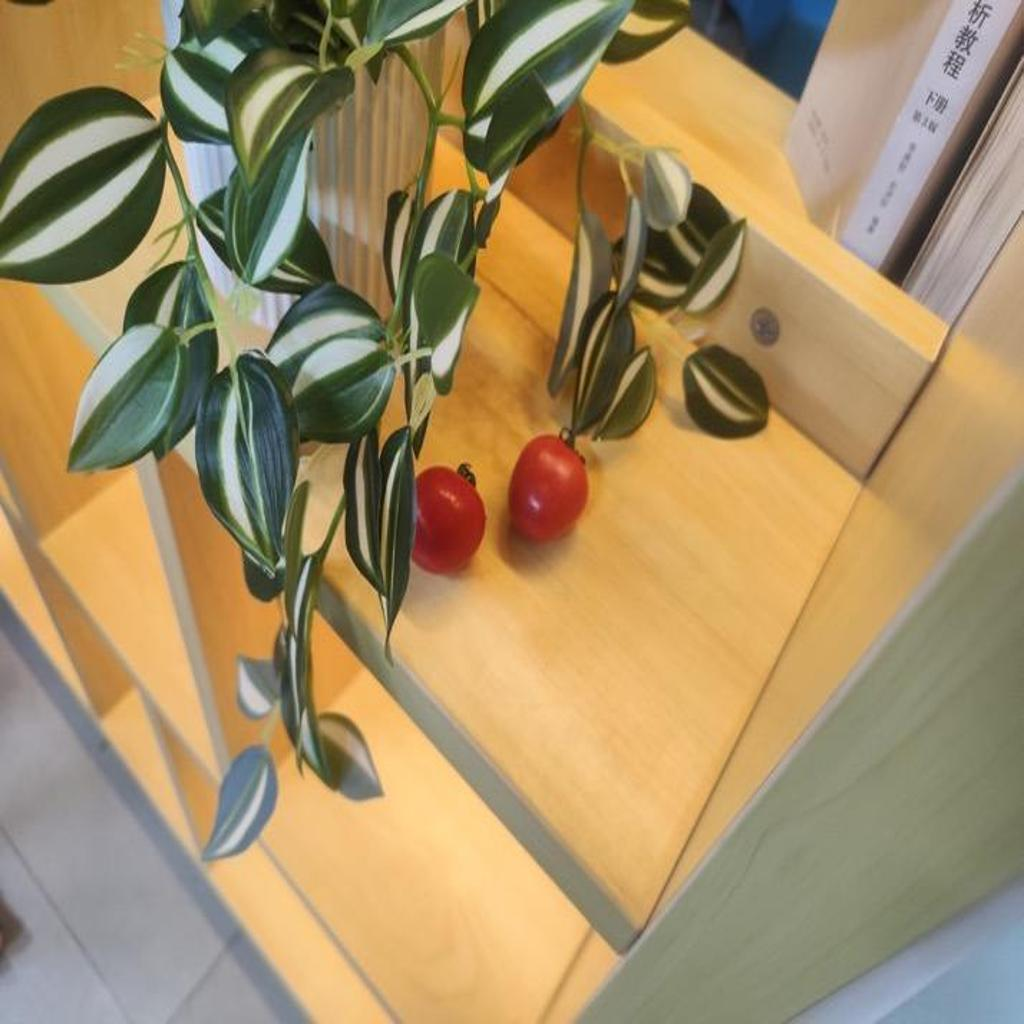tomato: (501, 432, 595, 555), (407, 468, 489, 575)
